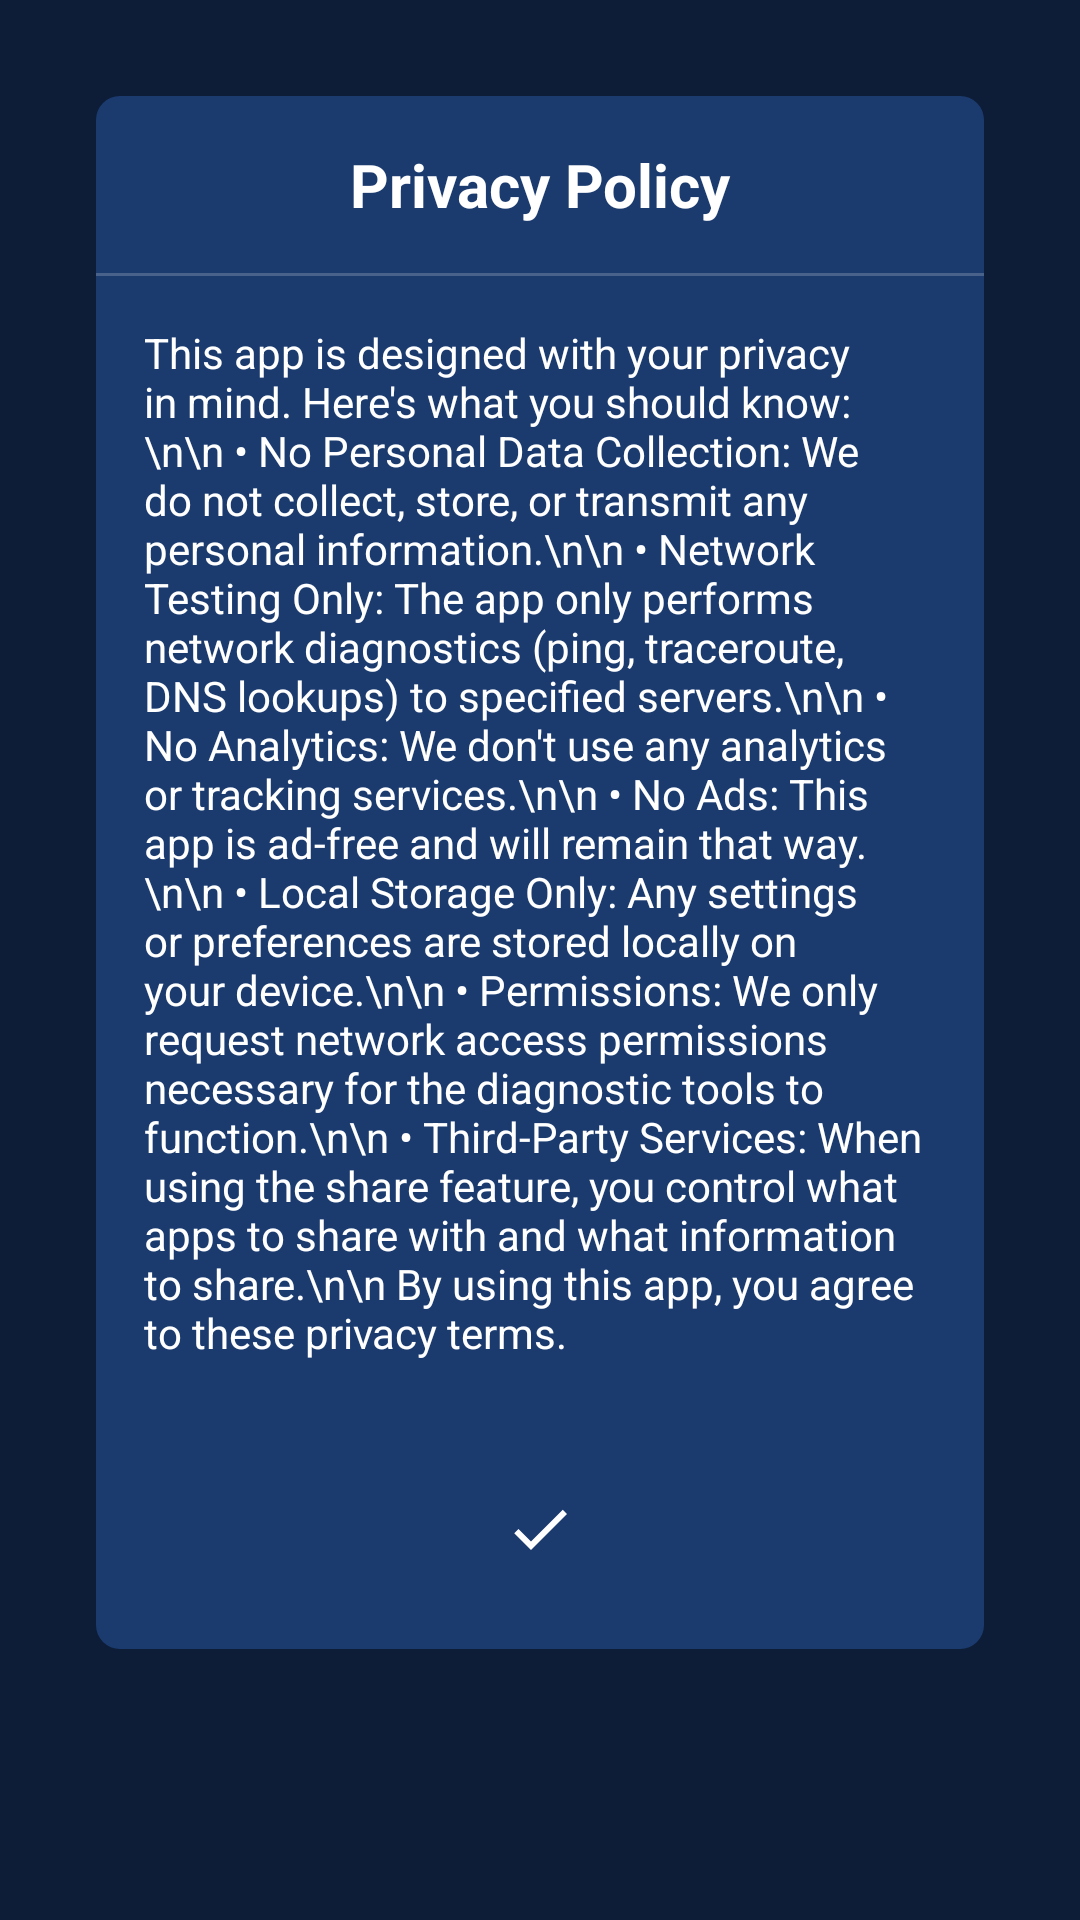

Named icons in this screenshot (1080px×1920px) and their centers, [x,y]:
Close Privacy Policy: [540,1530]
